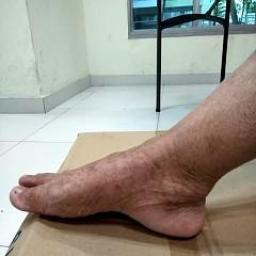Medial View -Right Foot-: (4, 111, 230, 246)
